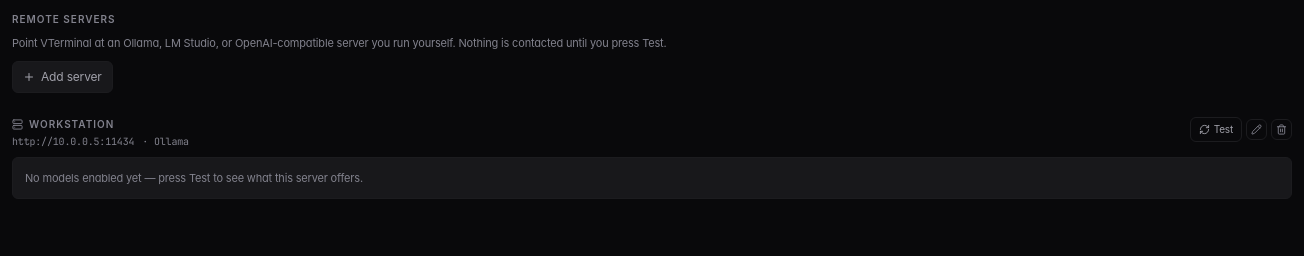
Scenario: RemoteServersSection › surfaces a probe failure beside the server and clears the spinner
The width and height of the screenshot is (1304, 256).
Click the button "Test" at point(1216, 129), box [1190,117,1242,142]
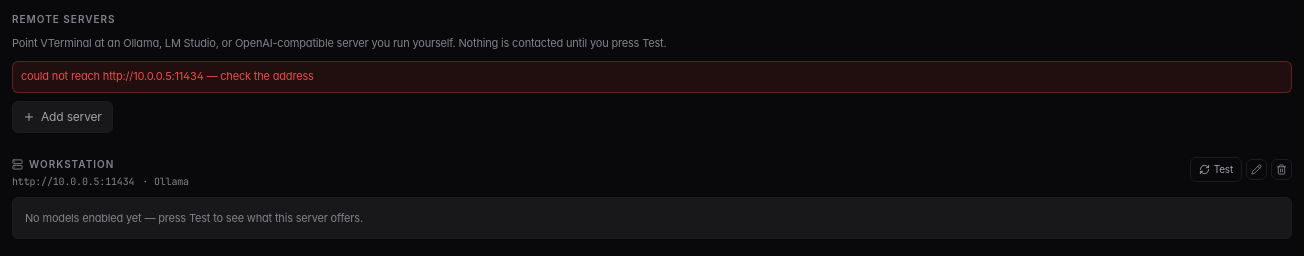
Expected: the button "Test" is shown, [1190,157,1242,182]
Now the text "could not reach http://10.0.0.5:11434 — check the address" is shown, box [12,61,1292,93]
